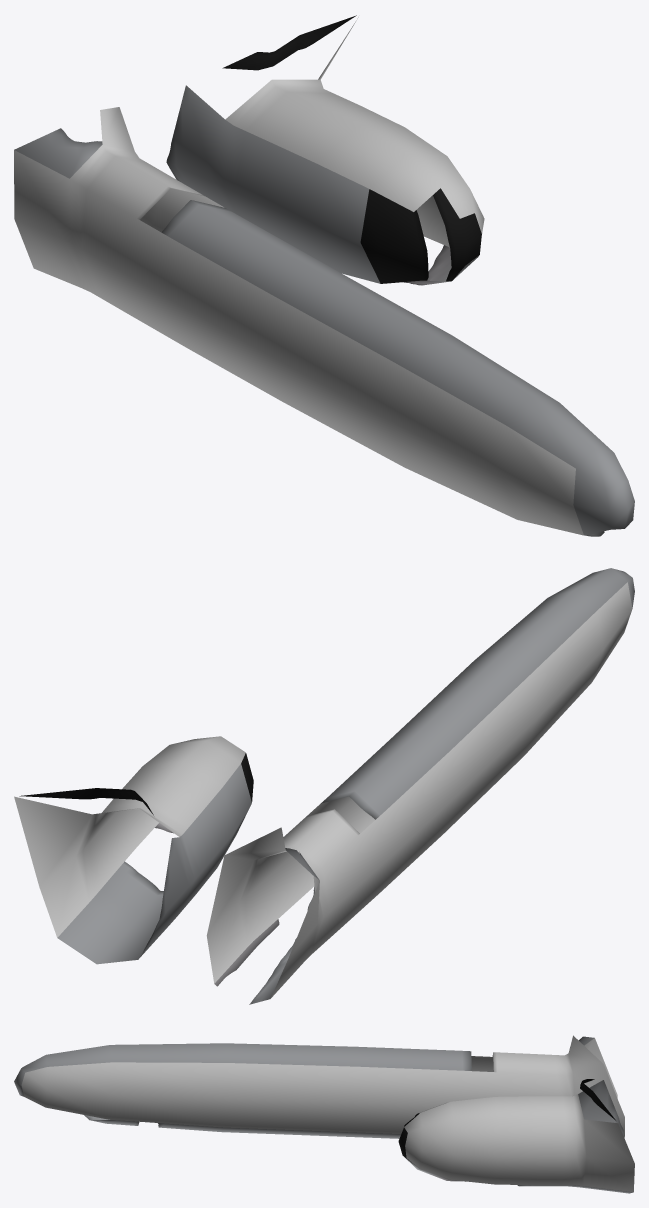
File: TurretLeftSpitfirev6.fbx
3 views of the same model, one above another, from view 1: azimuth 30°, elevation 25°; view 2: azimuth 150°, elevation 25°; view 3: azimuth 270°, elevation 25° (orthographic). The views are drawn at different scales.
Visible parts, largest first — view 1: gövde.001; view 2: gövde.001; view 3: gövde.001.
Part boxes in pixels (box(x1,y1,x2,y2)): gövde.001: box(14, 15, 634, 536); gövde.001: box(14, 568, 634, 1004); gövde.001: box(14, 1035, 634, 1193).
Size of the model in its own units: 148 by 82.71 by 375.
